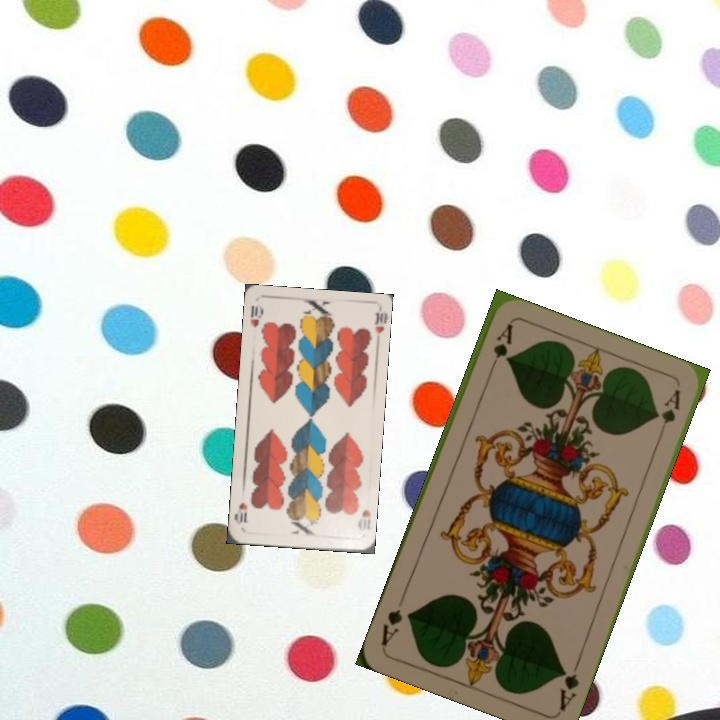GA: (484, 320, 515, 377), (555, 656, 583, 714)
H10: (246, 300, 266, 330), (353, 505, 373, 534)
